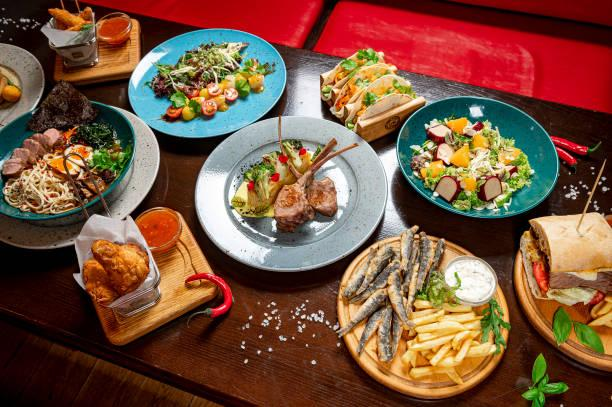Braised Crucian Carp: (194, 115, 379, 272), (334, 234, 502, 399), (2, 101, 160, 245), (397, 96, 560, 218), (81, 209, 222, 345), (125, 27, 283, 139), (512, 218, 612, 376)
